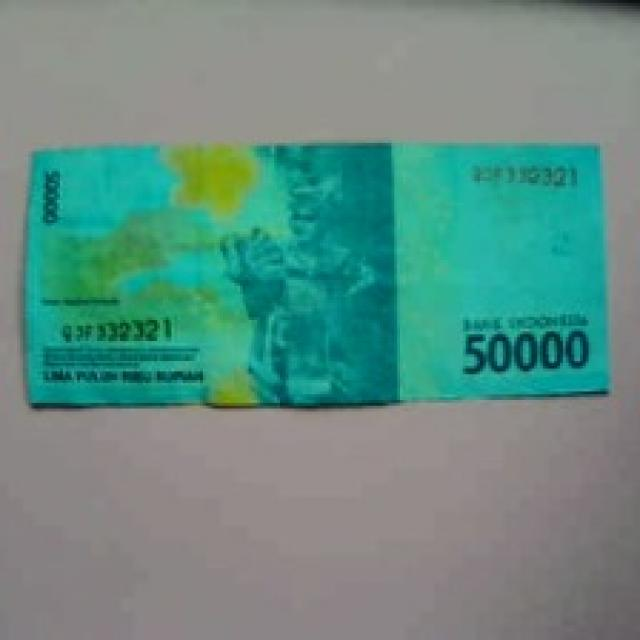dua ribu rupiah: (0, 95, 640, 468)
